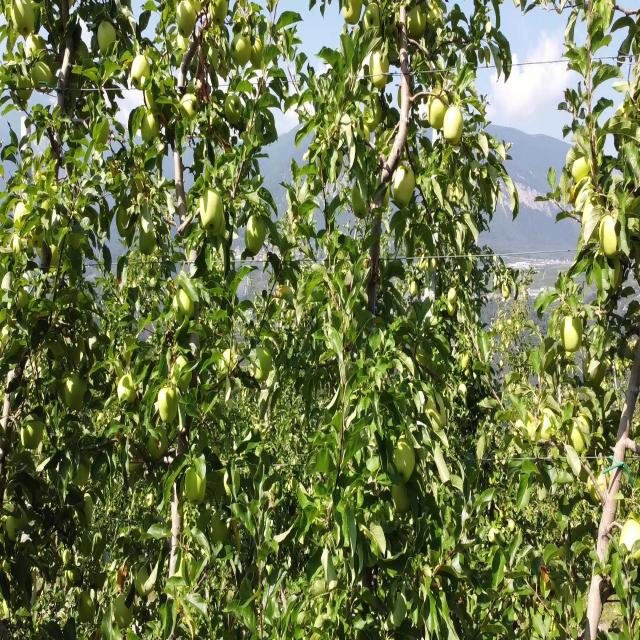apple: (599, 217, 625, 258), (199, 189, 223, 229), (619, 519, 640, 564), (393, 166, 415, 208), (394, 438, 416, 479), (568, 414, 590, 453), (244, 215, 266, 254), (10, 1, 34, 36), (423, 392, 446, 428), (428, 90, 449, 129), (185, 468, 206, 505), (560, 315, 582, 350), (170, 356, 192, 391), (20, 415, 43, 448), (368, 51, 388, 88), (444, 108, 463, 146), (65, 372, 85, 408), (230, 32, 252, 64), (176, 1, 196, 36), (130, 54, 150, 88), (158, 388, 178, 422), (147, 425, 167, 458), (173, 290, 194, 321), (351, 183, 369, 219), (567, 158, 593, 182), (406, 6, 426, 36), (538, 408, 558, 438), (253, 348, 271, 381), (114, 594, 132, 626), (588, 470, 606, 501), (341, 0, 363, 25), (224, 93, 242, 123), (77, 592, 95, 622), (7, 510, 26, 537), (516, 409, 535, 436), (212, 510, 228, 542), (118, 375, 136, 403), (142, 112, 160, 140), (32, 63, 52, 88), (98, 21, 116, 48), (76, 494, 92, 524), (134, 565, 150, 595), (208, 0, 227, 24), (179, 94, 198, 117), (362, 3, 379, 28), (25, 34, 46, 54), (251, 35, 263, 67), (139, 230, 154, 255), (17, 75, 32, 99), (221, 348, 235, 371), (14, 202, 26, 218), (460, 353, 470, 369), (448, 288, 457, 303), (458, 384, 468, 396), (447, 302, 455, 316), (409, 282, 417, 296), (502, 284, 509, 298)
